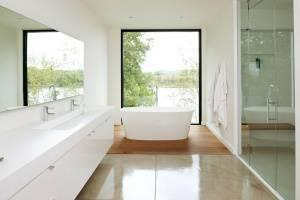window: (117, 26, 204, 126)
